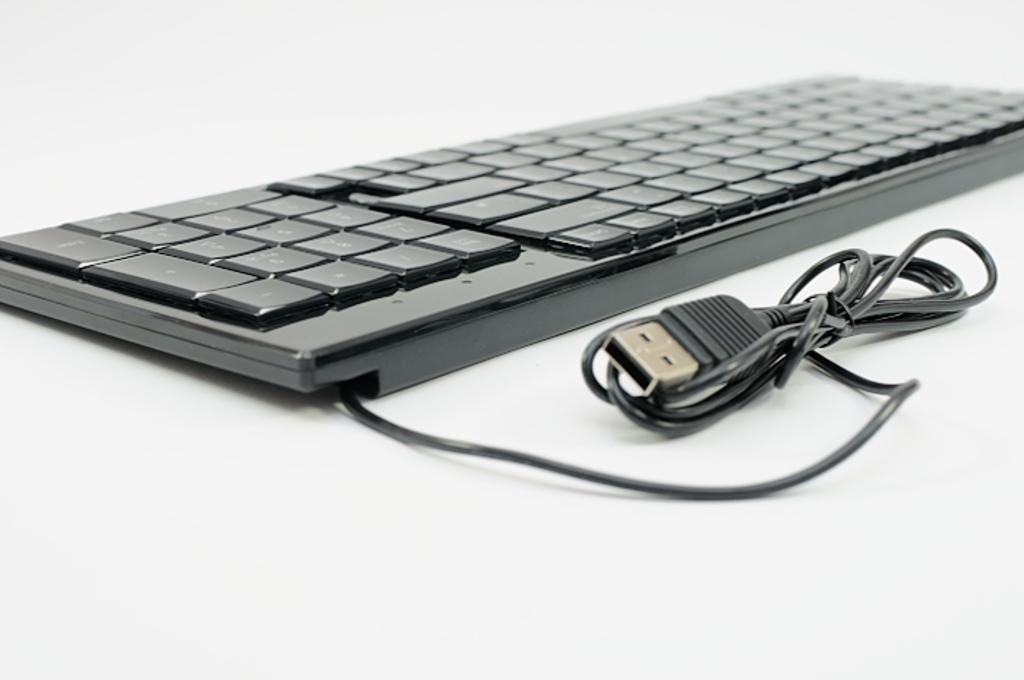Computer-keyboard: (0, 69, 1023, 396)
